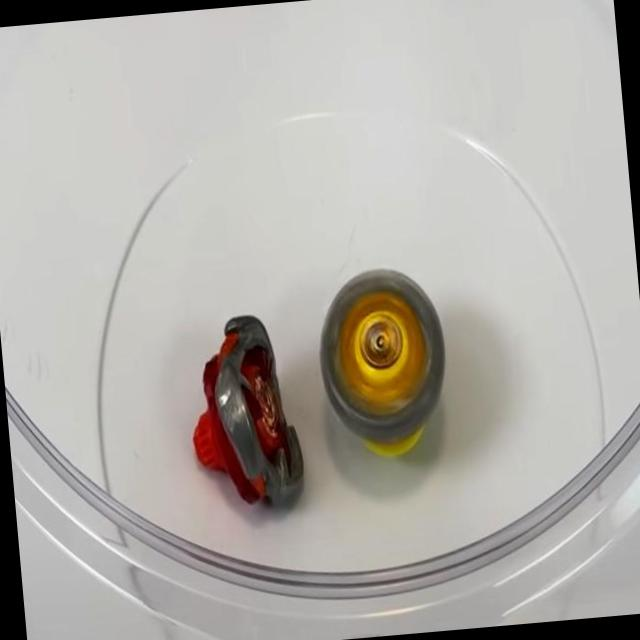Beyblade: (174, 300, 314, 526), (313, 262, 453, 460)
